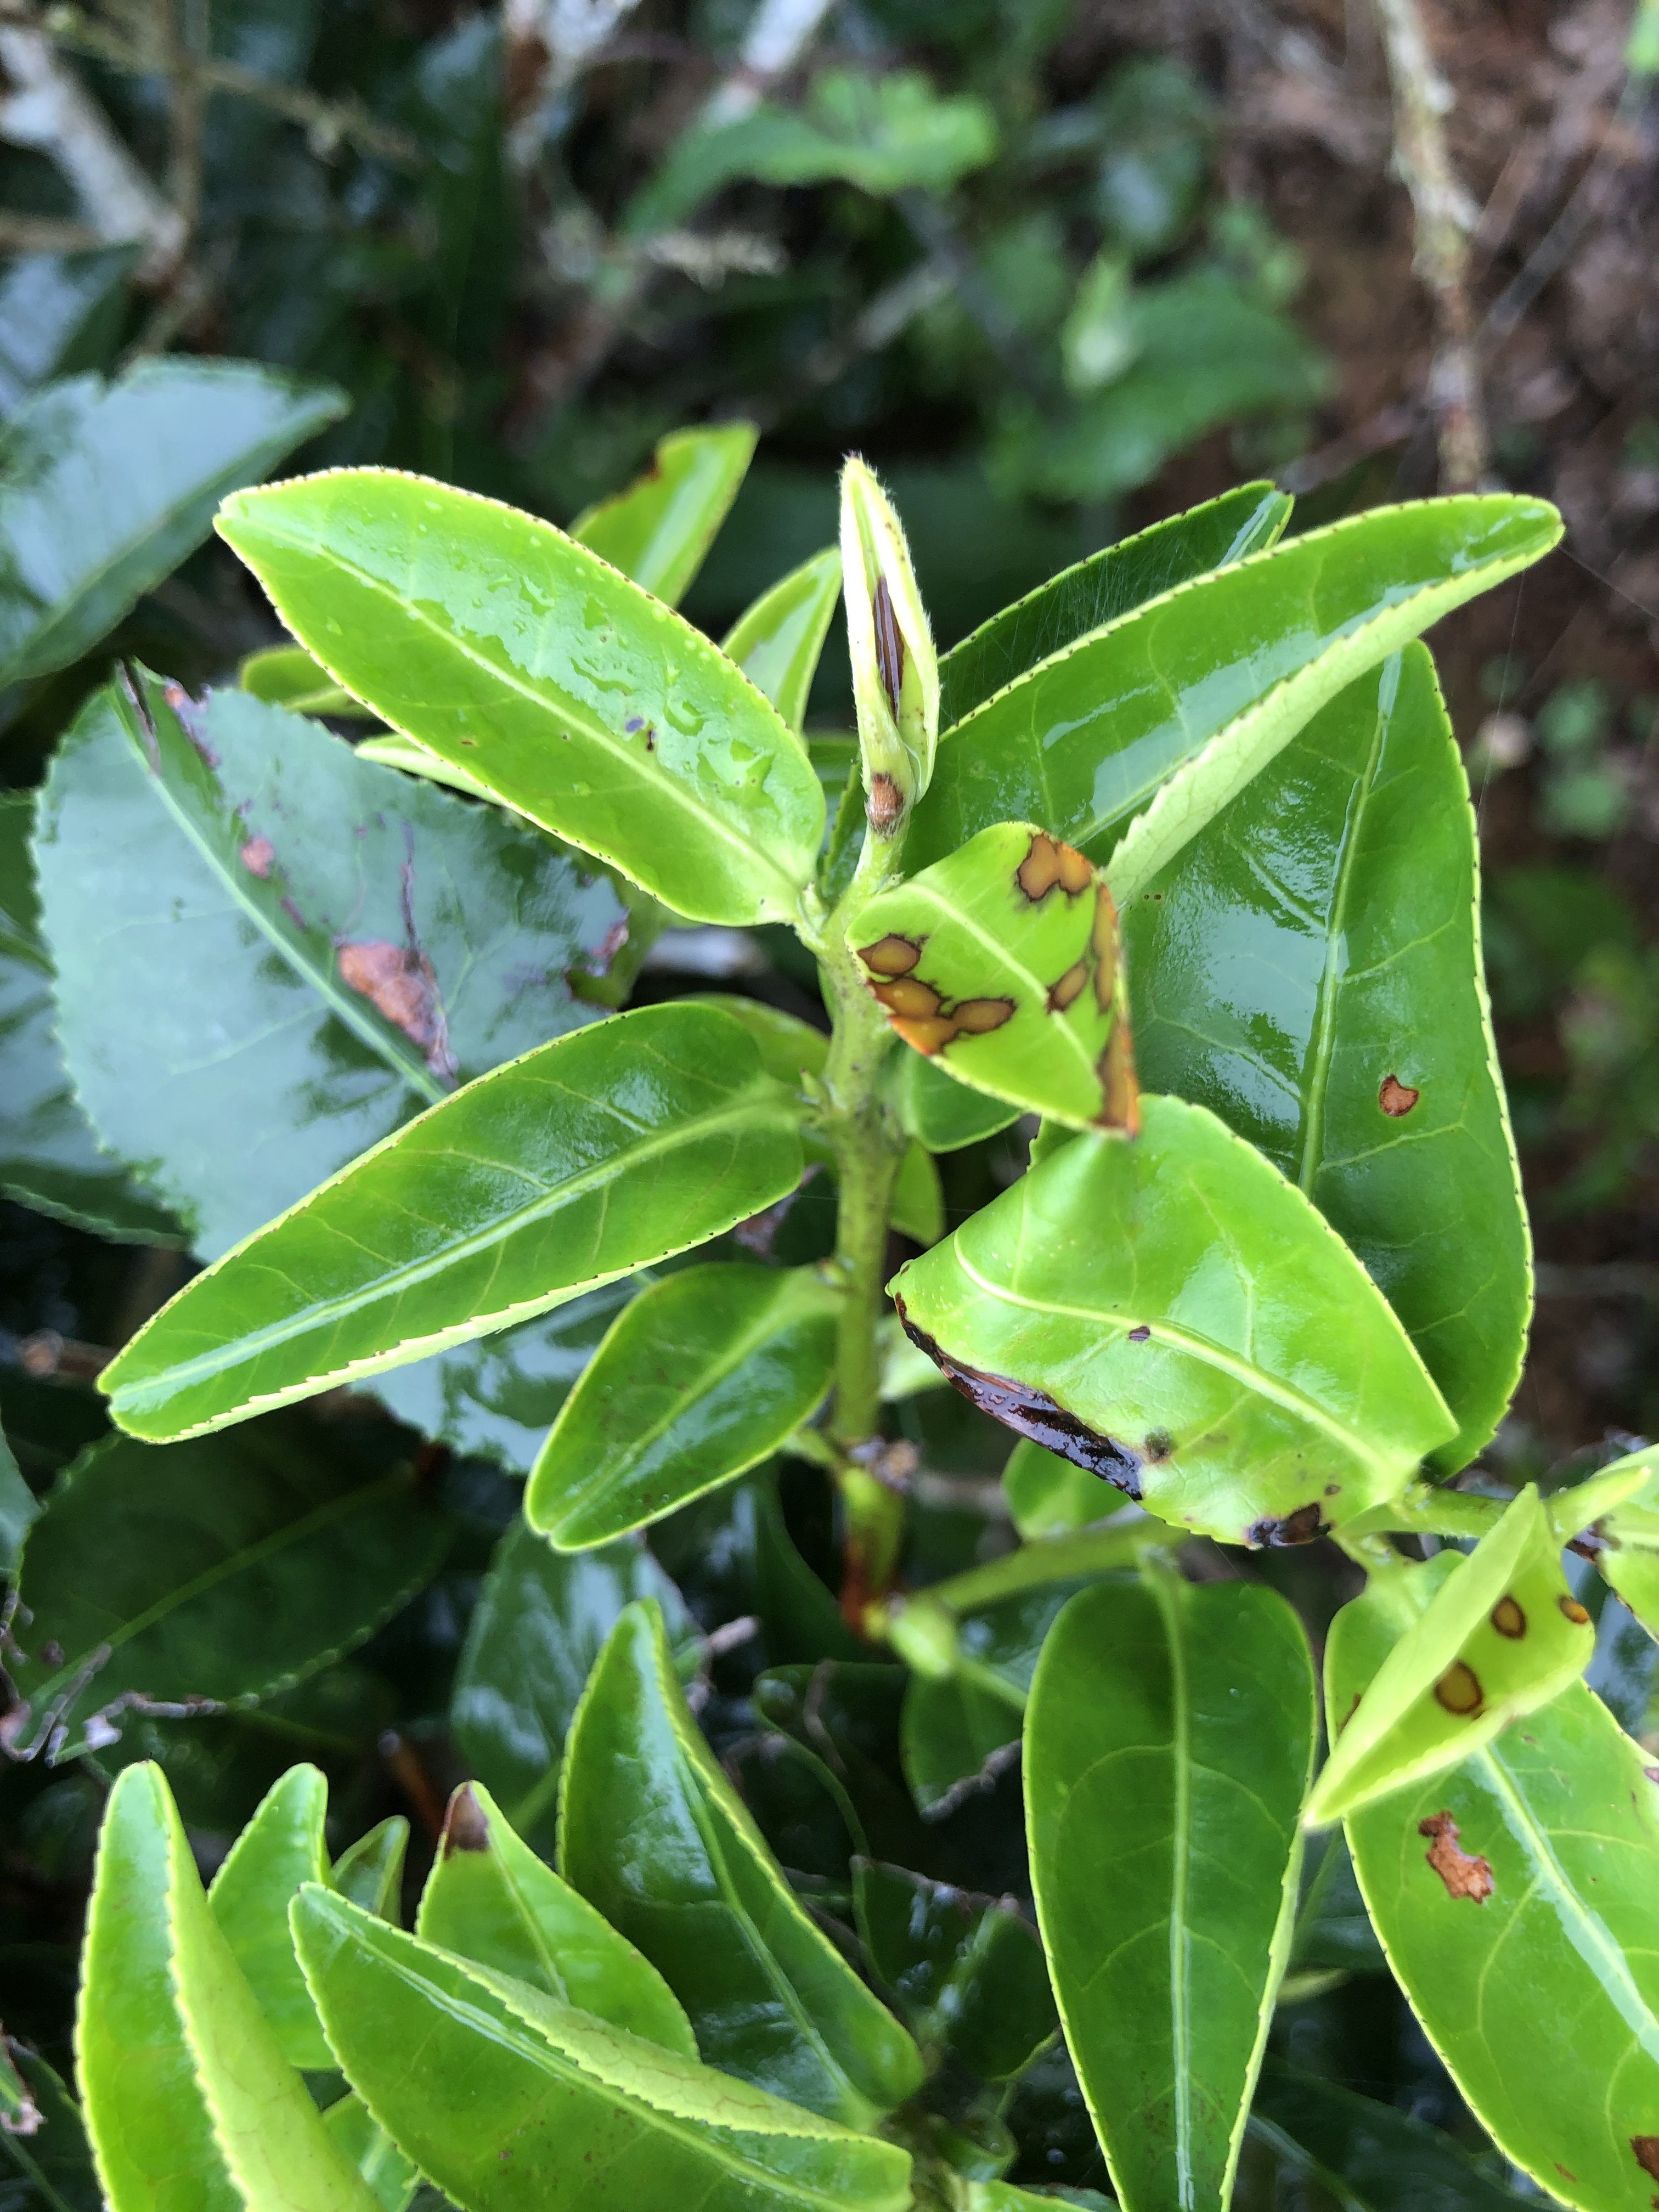mosquito_early: (1094, 636, 1539, 1385), (830, 801, 1148, 1134), (1310, 1487, 1596, 1820)
mosquito_late: (23, 651, 681, 1261)
